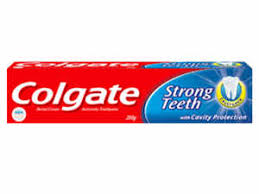colgate-medium: (8, 59, 251, 123)
